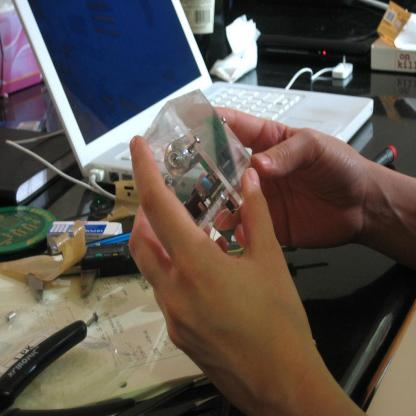board: (12, 0, 374, 200)
